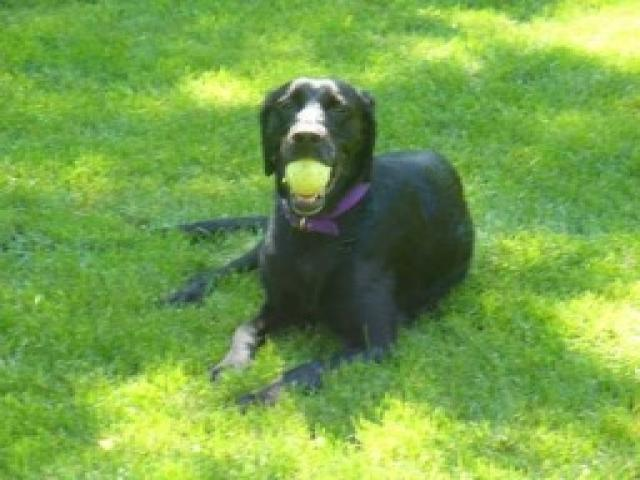tennis-ball: (284, 159, 332, 194)
